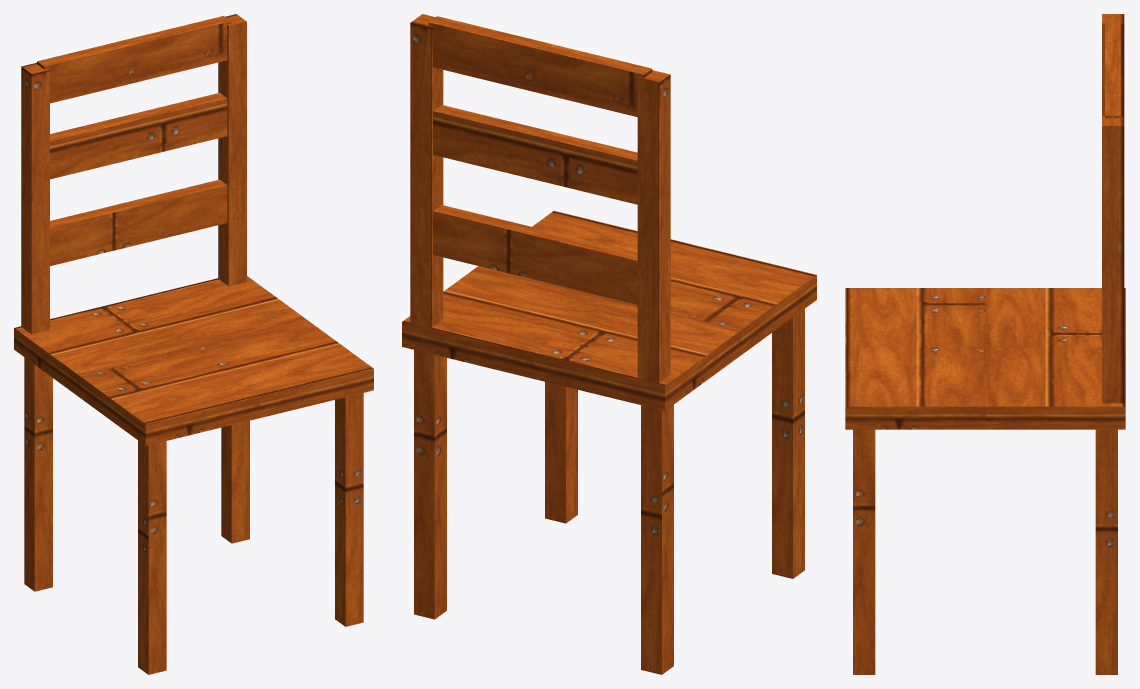
File: Chair.fbx
3 renders of one model, left to right at view 1: azimuth 30°, elevation 25°; view 2: azimuth 150°, elevation 25°; view 3: azimuth 270°, elevation 25°, orthographic. The views are drawn at different scales.
Visible parts, largest first — view 1: Chair; view 2: Chair; view 3: Chair.
Boxes of the visible parts, left/top/right/bottom form: Chair: left=14, top=14, right=373, bottom=674; Chair: left=402, top=14, right=816, bottom=674; Chair: left=845, top=14, right=1125, bottom=674.
Bounding box in the file's own units: 0.44 × 0.955 × 0.44.
